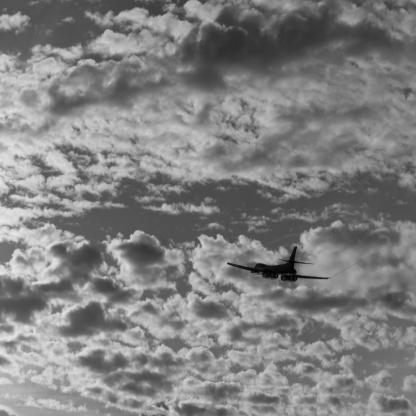B1: (228, 247, 332, 283)
